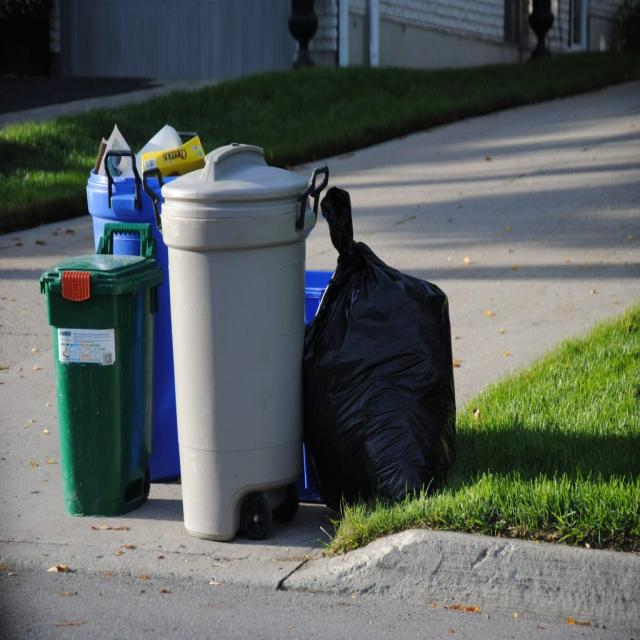sampah-detection: (302, 187, 460, 519), (87, 121, 207, 184)
